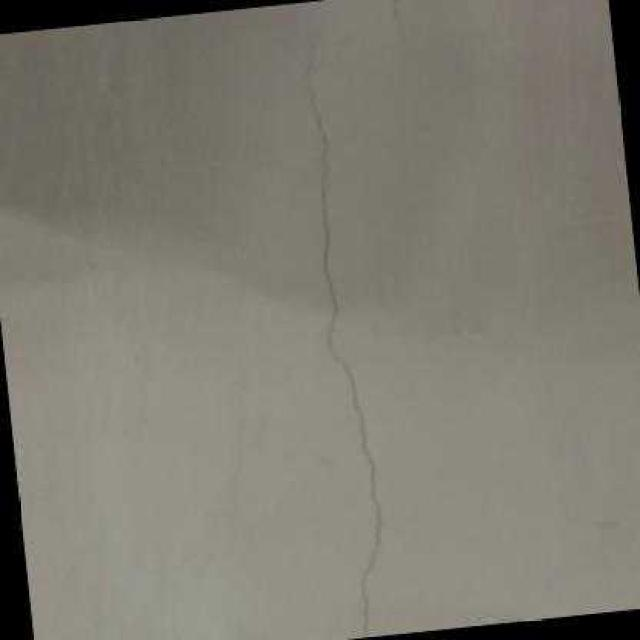D00: (302, 29, 380, 637)
